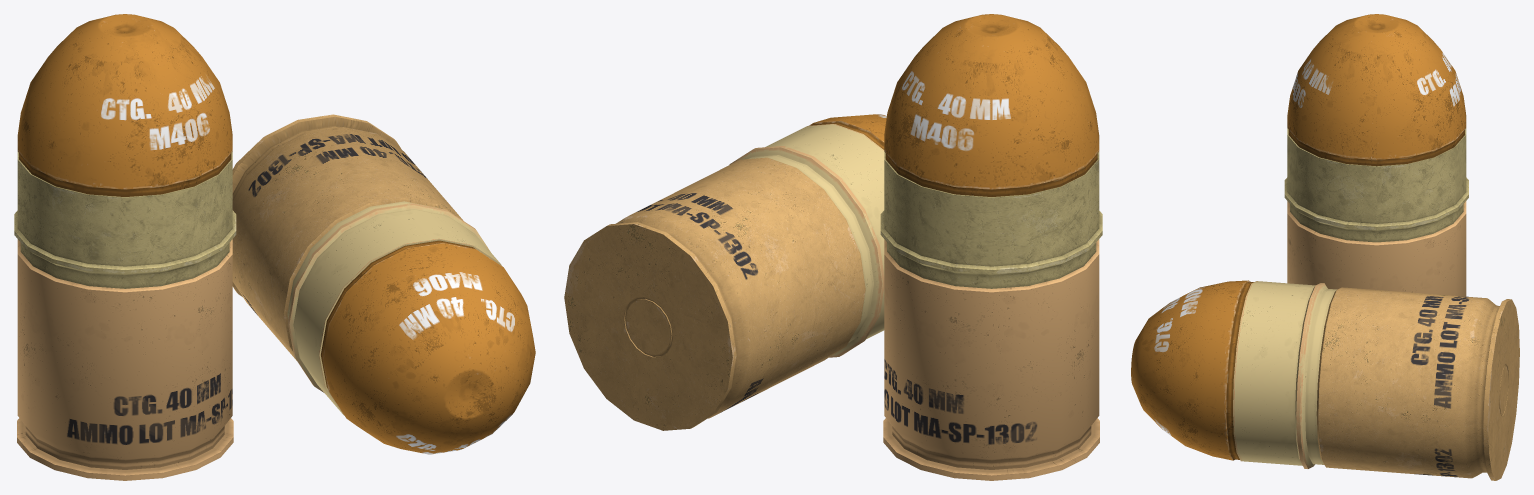
File: grenade ammo.fbx
3 renders of one model, left to right at view 1: azimuth 30°, elevation 25°; view 2: azimuth 150°, elevation 25°; view 3: azimuth 270°, elevation 25°, orthographic. The views are drawn at different scales.
Visible parts, largest first — view 1: grenade_launcher_ammo_LPS2; view 2: grenade_launcher_ammo_LPS2; view 3: grenade_launcher_ammo_LPS2.
Part boxes in pixels (x1,y1,x2,y2): grenade_launcher_ammo_LPS2: (14,14,535,480); grenade_launcher_ammo_LPS2: (564,14,1102,480); grenade_launcher_ammo_LPS2: (1131,14,1519,480).
Bounding box in the file's own units: 33.64 × 28.88 × 29.77.
